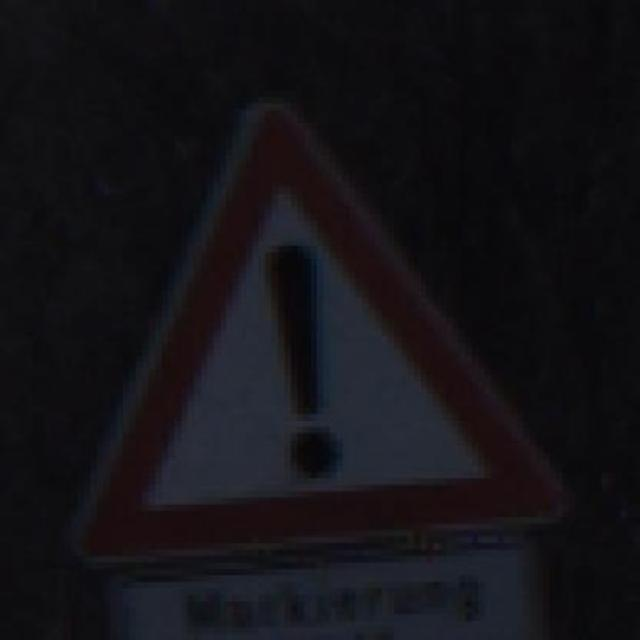Attention Please-: (69, 83, 568, 549)
